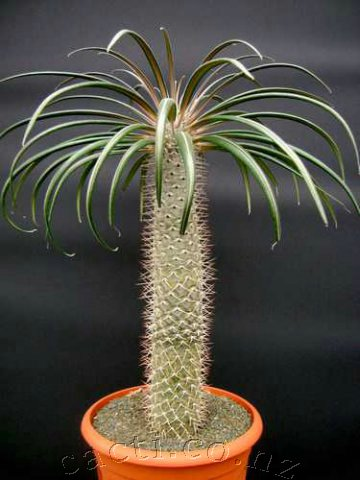Pachypodium geayi: (77, 46, 264, 445)
